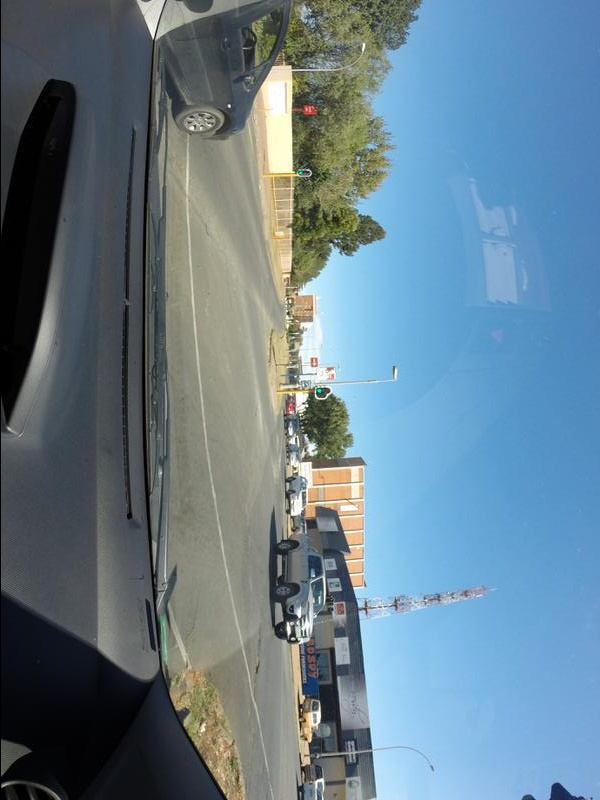pothole: (253, 637, 264, 688)
